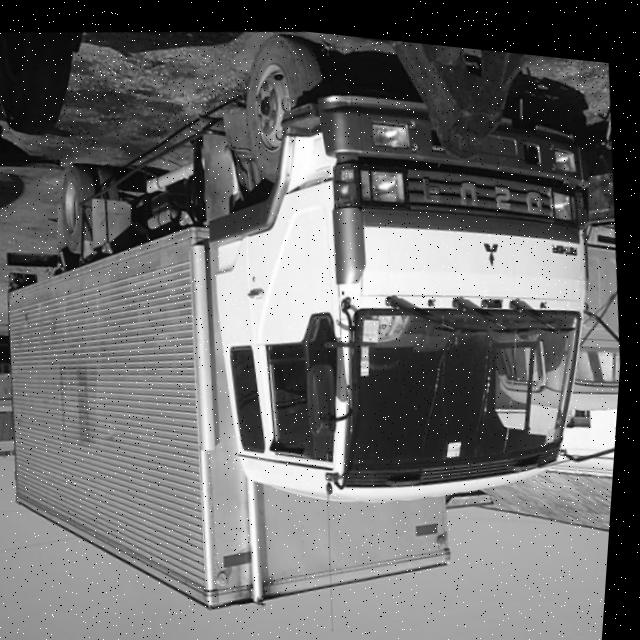truck: (155, 16, 640, 561)
